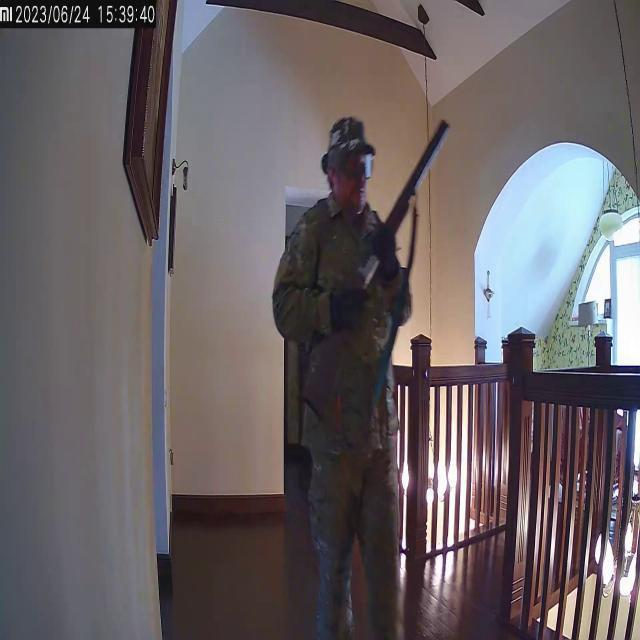pistol: (306, 119, 456, 417)
